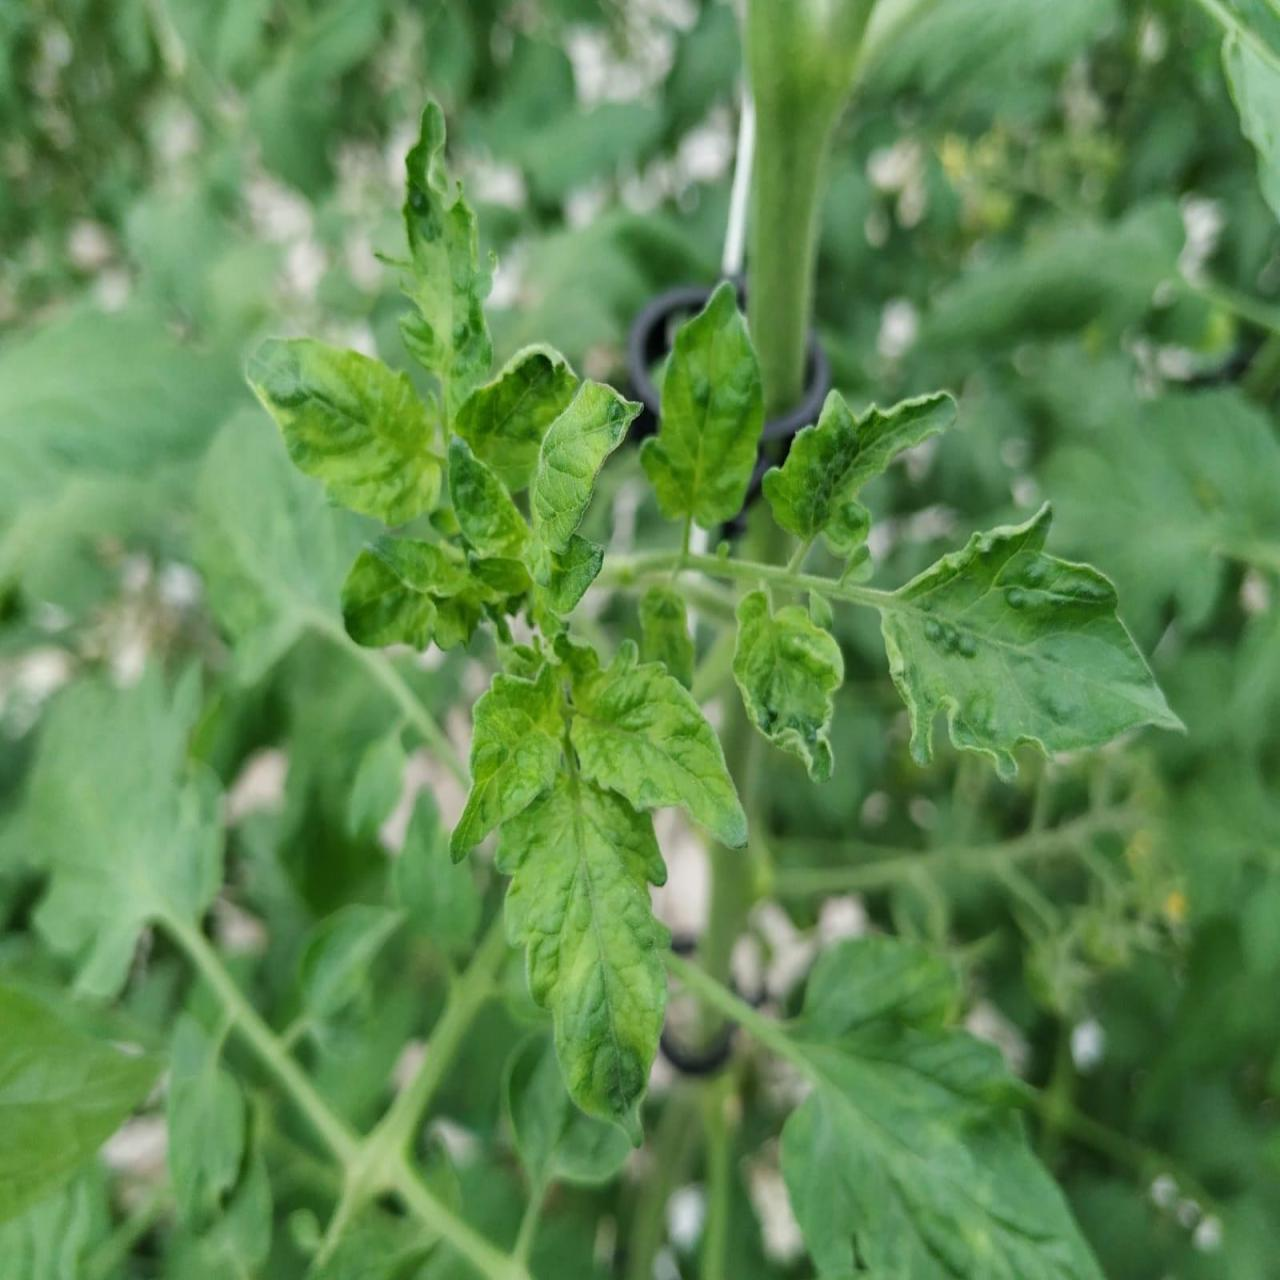T_L_H: (883, 504, 1183, 776), (641, 279, 765, 527)
T_L_R: (498, 770, 669, 1124), (568, 641, 749, 847), (451, 663, 566, 862), (734, 591, 846, 784), (531, 381, 639, 554)
